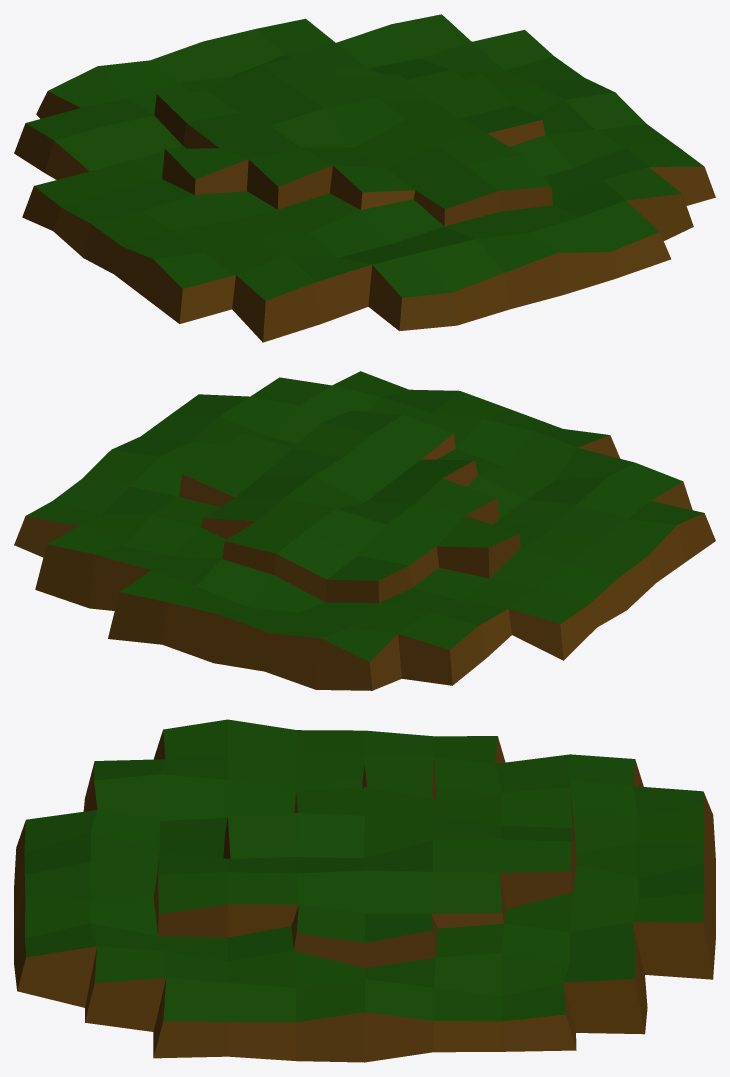
File: Continent_3.fbx
3 renders of one model, top to bottom at view 1: azimuth 30°, elevation 25°; view 2: azimuth 150°, elevation 25°; view 3: azimuth 270°, elevation 25°, orthographic. The views are drawn at different scales.
Visible parts, largest first — view 1: Continent_3; view 2: Continent_3; view 3: Continent_3.
Boxes of the visible parts, <box> form: Continent_3: <box>14,14,715,342</box>; Continent_3: <box>14,371,715,690</box>; Continent_3: <box>14,719,715,1062</box>.
Size of the model in its own units: 0.5855 by 0.0749 by 0.5856.
